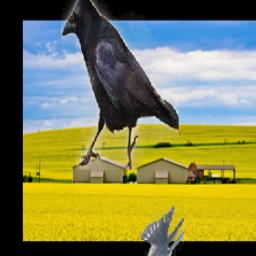Crow: (62, 0, 179, 171)
Swallow: (138, 204, 184, 256)
